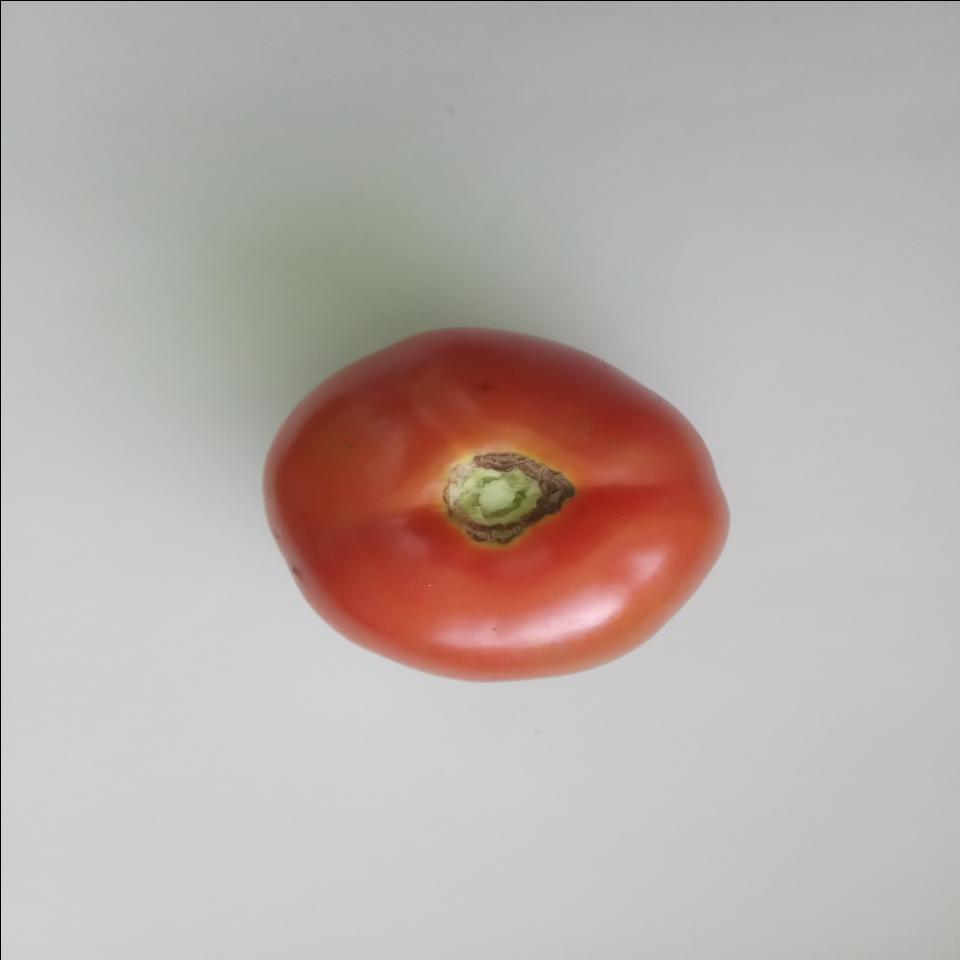Healthy: (248, 319, 744, 698)
